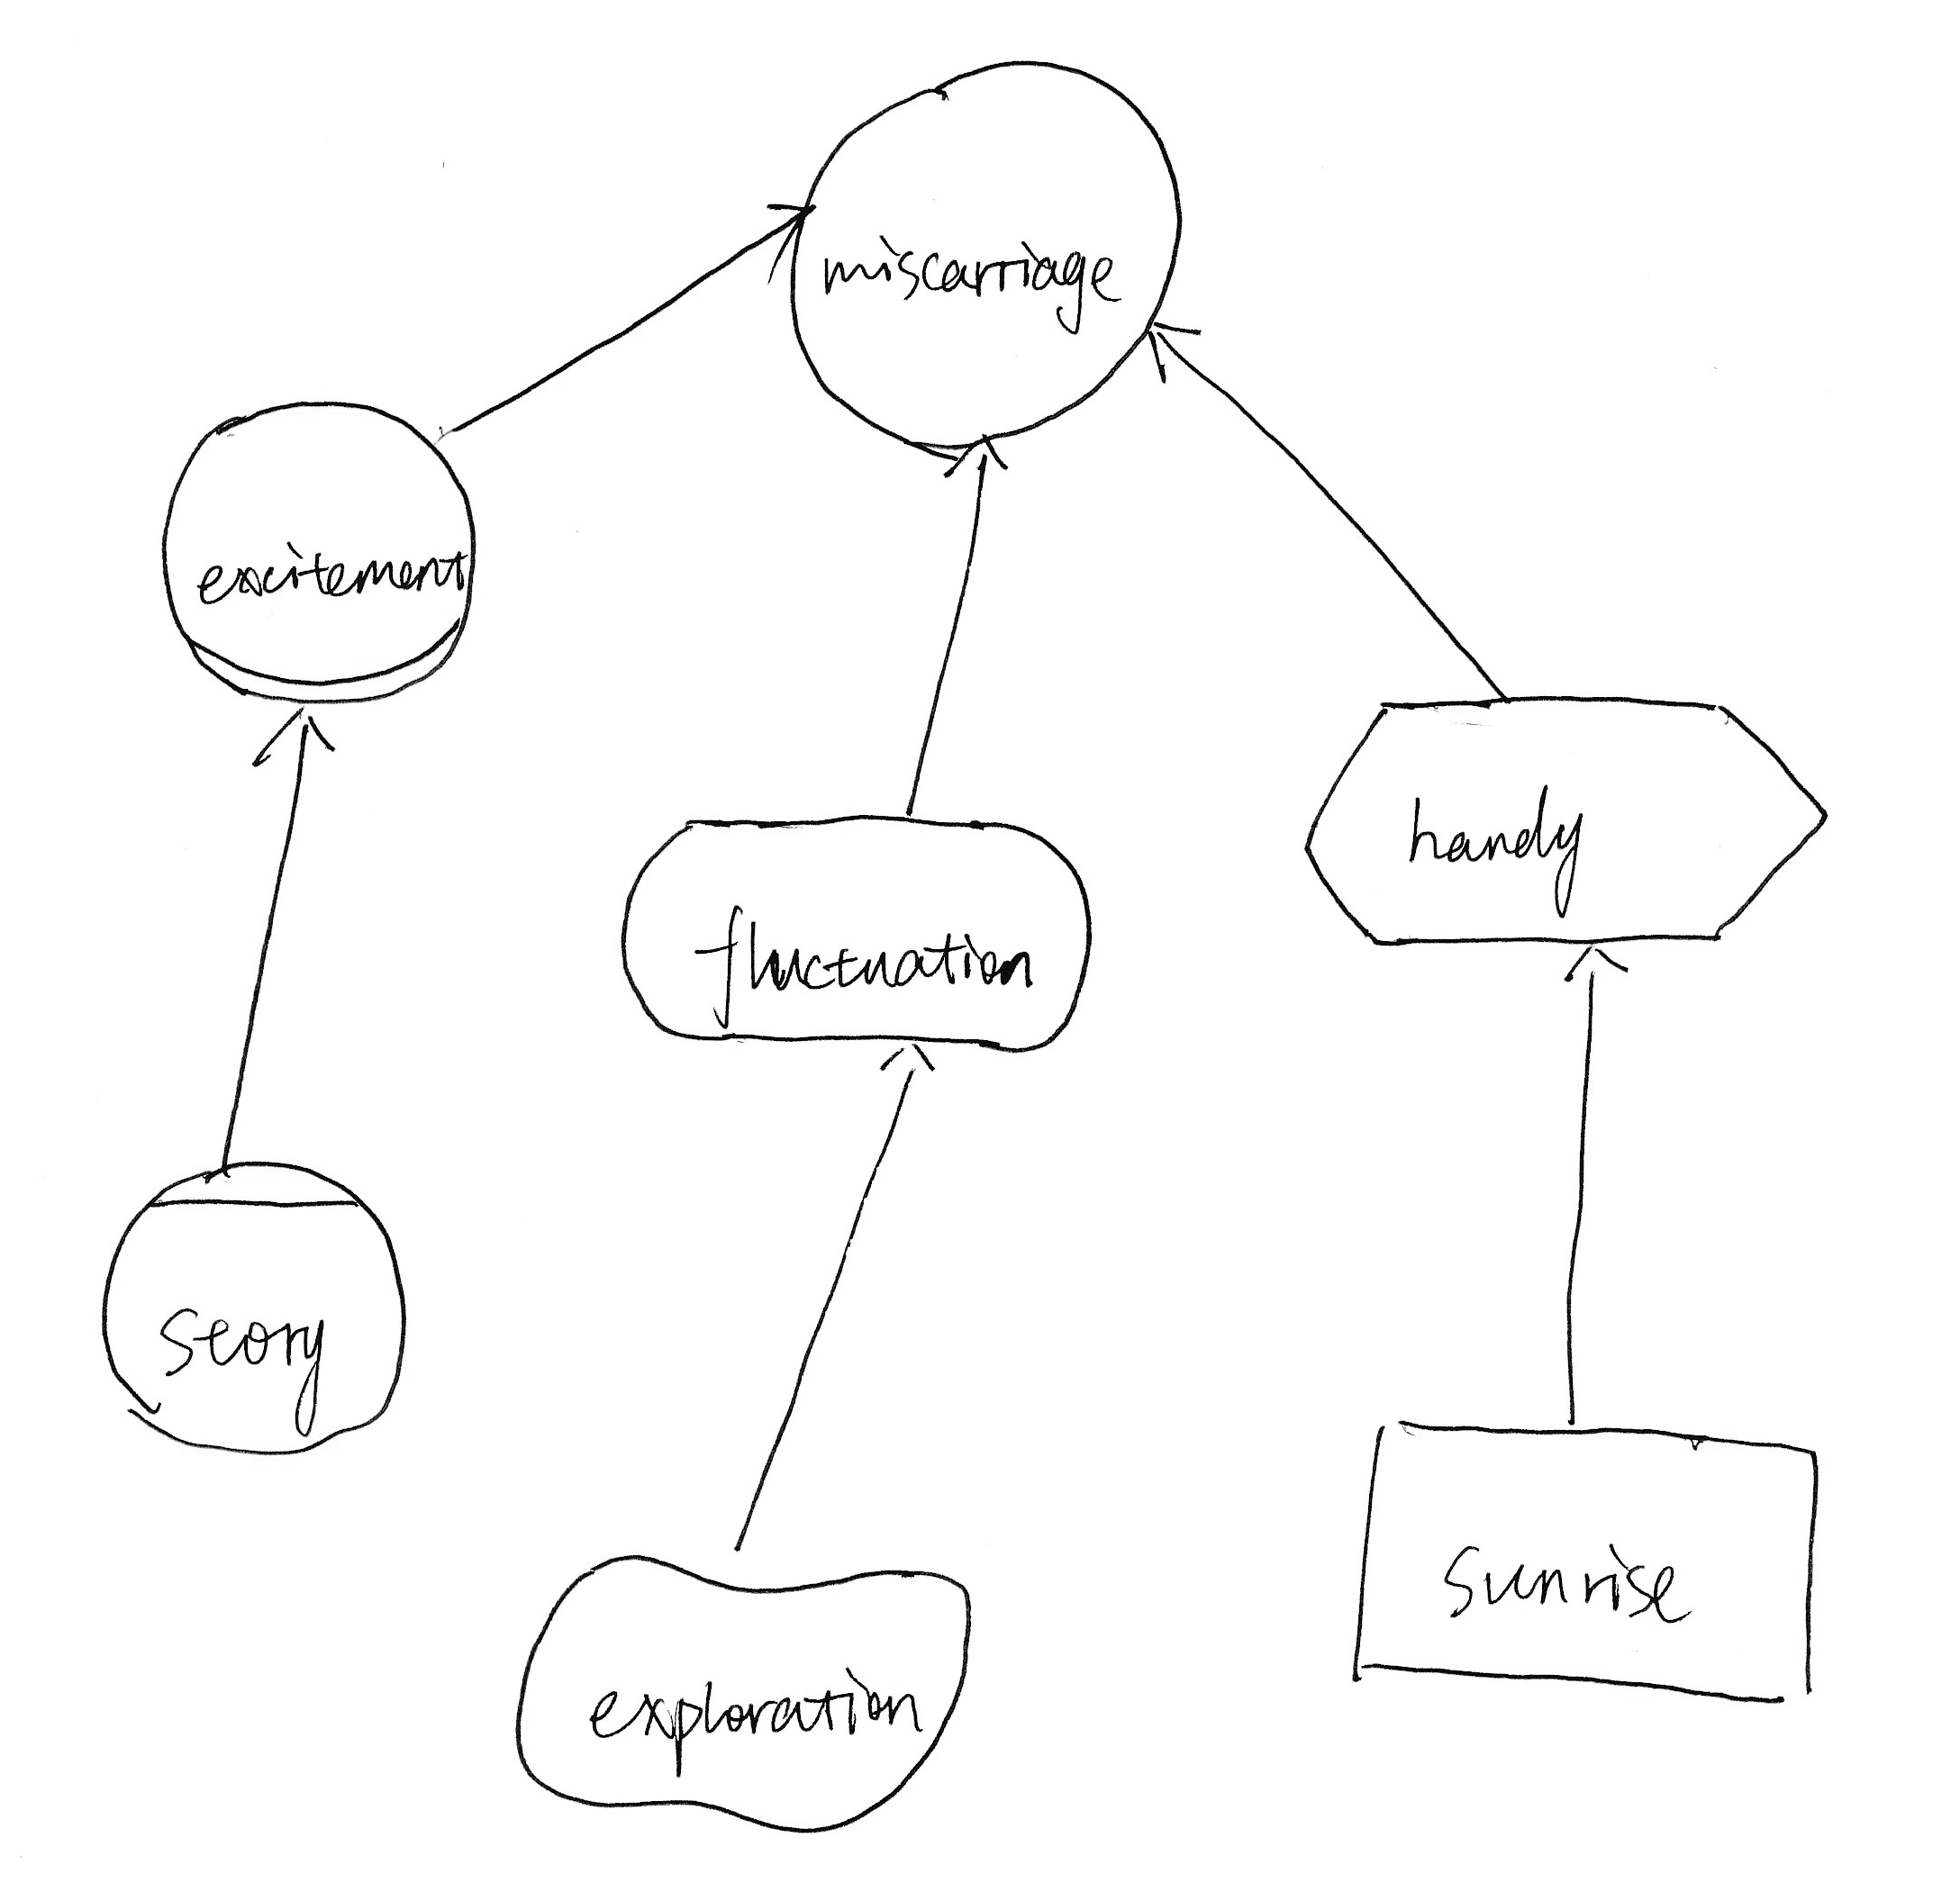actor: (779, 40, 1200, 466)
agent: (87, 1143, 420, 1467)
arrow: (240, 700, 345, 788), (751, 179, 819, 296), (1137, 305, 1214, 399), (936, 427, 1029, 499), (1561, 936, 1643, 1006), (866, 1033, 950, 1096)
goal: (604, 802, 1108, 1068)
quality: (487, 1542, 999, 1845)
resource: (1339, 1397, 1846, 1729)
role: (147, 383, 488, 719)
task: (1288, 674, 1841, 964)
